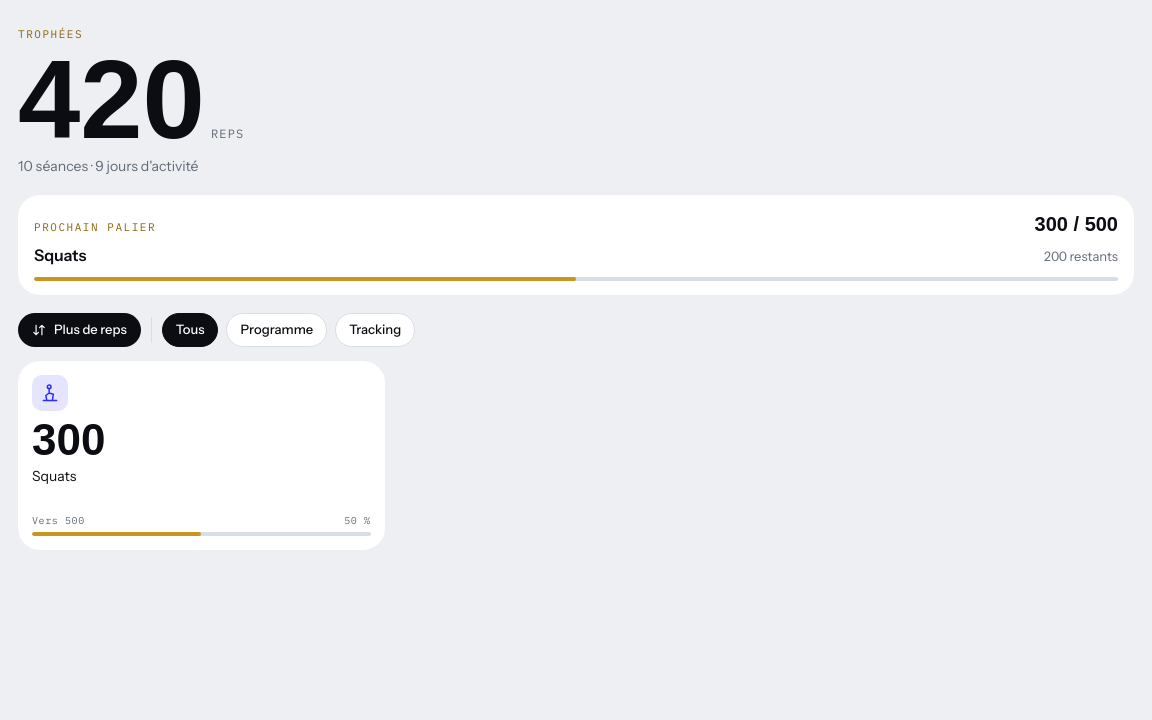
Scenario: TropheesScreen › explains an empty filter without pretending there are no trophies
Click the button "Tracking": (375, 330) [335,313,415,347]
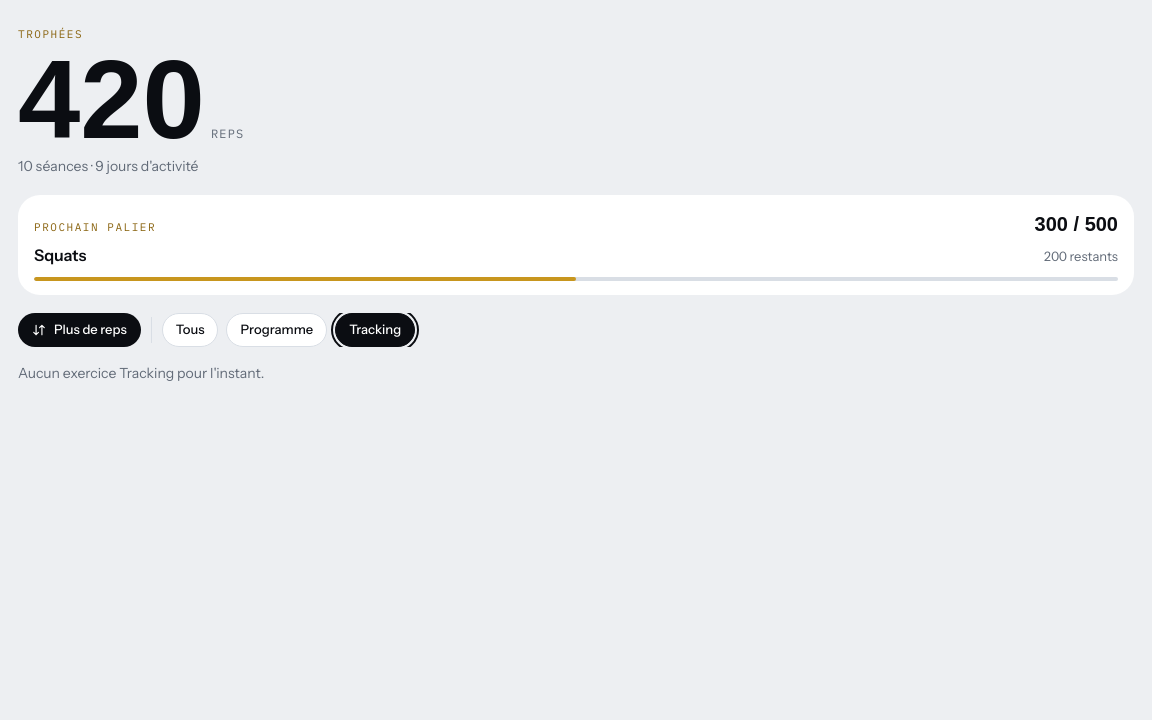
Expected: the text "Aucun exercice Tracking pour l'instant." is shown, [18,364,264,382]
